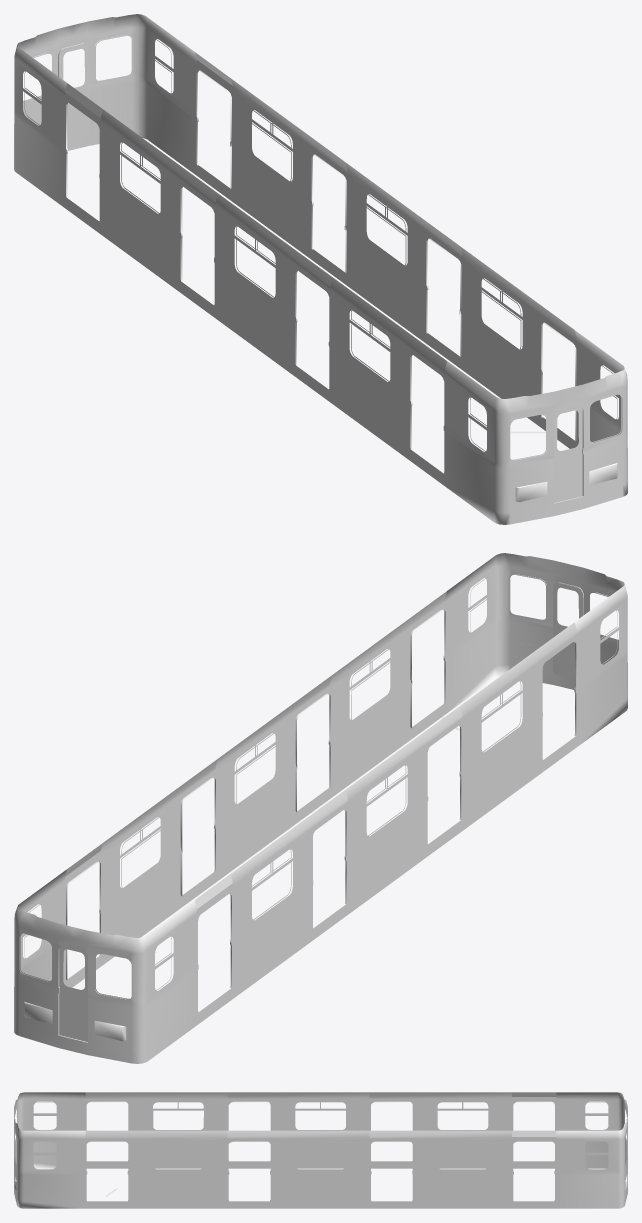
3 views of the same model, one above another, from view 1: azimuth 30°, elevation 25°; view 2: azimuth 150°, elevation 25°; view 3: azimuth 270°, elevation 25° (orthographic). The views are drawn at different scales.
Size of the model in its own units: 2.9 by 2.62 by 18.85.
1 material, 1 textured.
